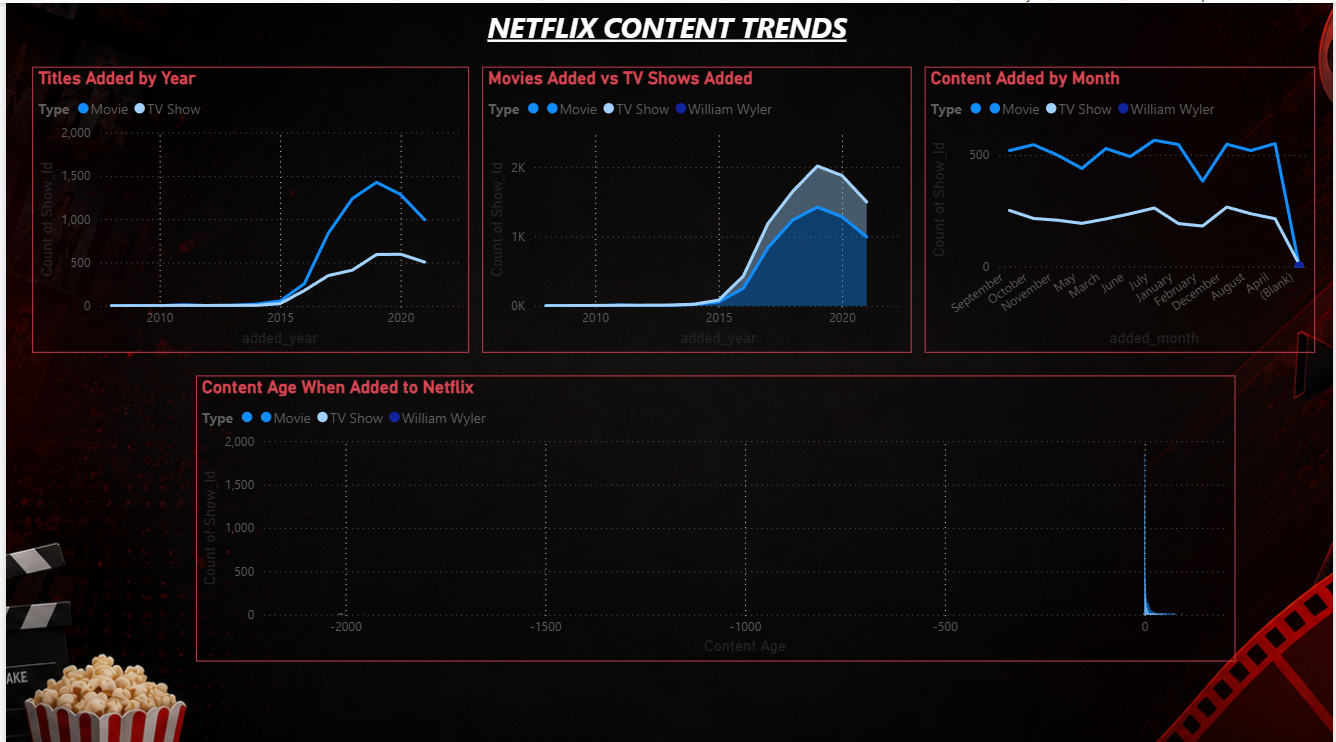

Layout of this report page (visuals, bound fields, positions):
{"tool":"powerbi","page":{"name":"Page 4","canvas":[1280,720],"ordinal":3},"visuals":[{"type":"textbox","box":[460,0,404.3,61.4],"z":0},{"type":"lineChart","title":"Titles Added by Year","fields":{"Category":["netflix_titles.added_year"],"Series":["netflix_titles.Type"],"Y":["CountNonNull(netflix_titles.Show_Id)"]},"box":[25.7,61.4,421.4,275.7],"z":1},{"type":"stackedAreaChart","title":"Movies Added vs TV Shows Added","fields":{"Category":["netflix_titles.added_year"],"Series":["netflix_titles.Type"],"Y":["CountNonNull(netflix_titles.Show_Id)"]},"box":[460,61.4,414.3,275.7],"z":2},{"type":"lineChart","title":"Content Added by Month","fields":{"Category":["netflix_titles.added_month"],"Series":["netflix_titles.Type"],"Y":["CountNonNull(netflix_titles.Show_Id)"]},"box":[887.1,61.4,377.1,275.7],"z":3},{"type":"clusteredColumnChart","title":"Content Age When Added to Netflix","fields":{"Category":["netflix_titles.Content Age"],"Y":["CountNonNull(netflix_titles.Show_Id)"],"Series":["netflix_titles.Type"]},"box":[182.9,360,1002.9,275.7],"z":4}]}

Visuals, with their boxes in screenshot pixels (x1, y1, x2, y2), scaled from the page's 1280x720 canvas onto the 1336x742 screenshot:
textbox: bbox=[480, 0, 902, 63]
"Titles Added by Year" lineChart: bbox=[27, 63, 467, 347]
"Movies Added vs TV Shows Added" stackedAreaChart: bbox=[480, 63, 913, 347]
"Content Added by Month" lineChart: bbox=[926, 63, 1320, 347]
"Content Age When Added to Netflix" clusteredColumnChart: bbox=[191, 371, 1238, 655]
